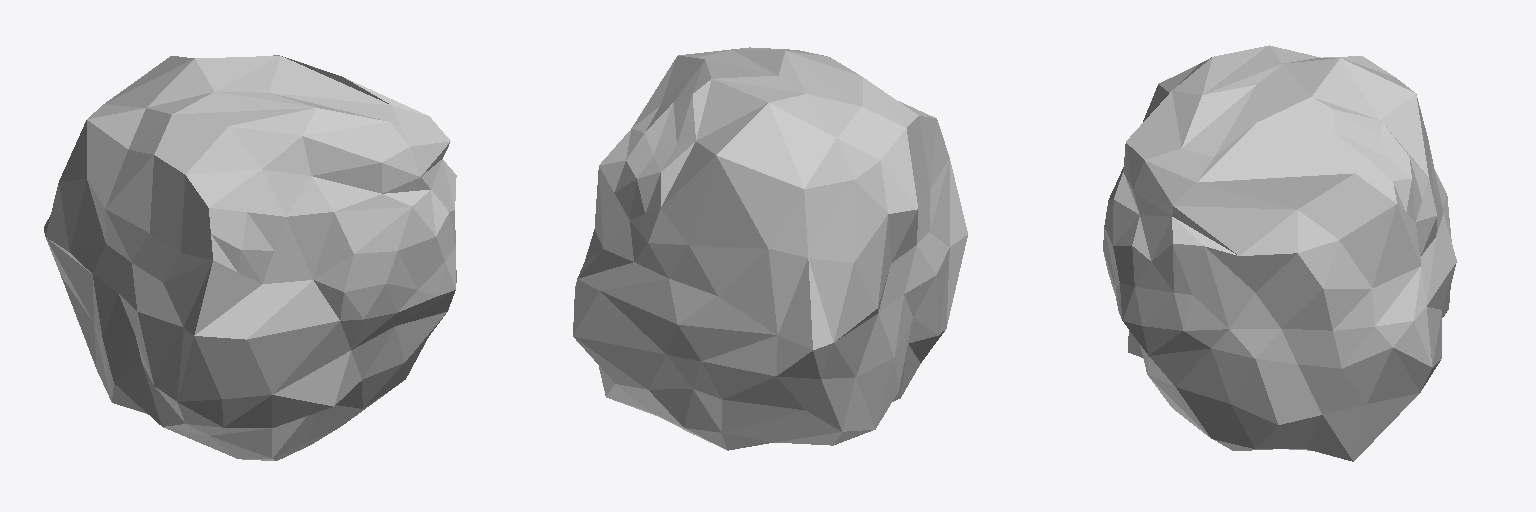
The model's file is HalfRock_03.obj.
3 renders of one model, left to right at view 1: azimuth 30°, elevation 25°; view 2: azimuth 150°, elevation 25°; view 3: azimuth 270°, elevation 25°, orthographic.
Parts seen in each view (by area): view 1: ICO球; view 2: ICO球; view 3: ICO球.
Boxes of the visible parts, <box> form: ICO球: <box>44,55,456,460</box>; ICO球: <box>573,47,967,450</box>; ICO球: <box>1103,45,1456,461</box>.
Bounding box in the file's own units: 4.67 × 5.42 × 4.76.